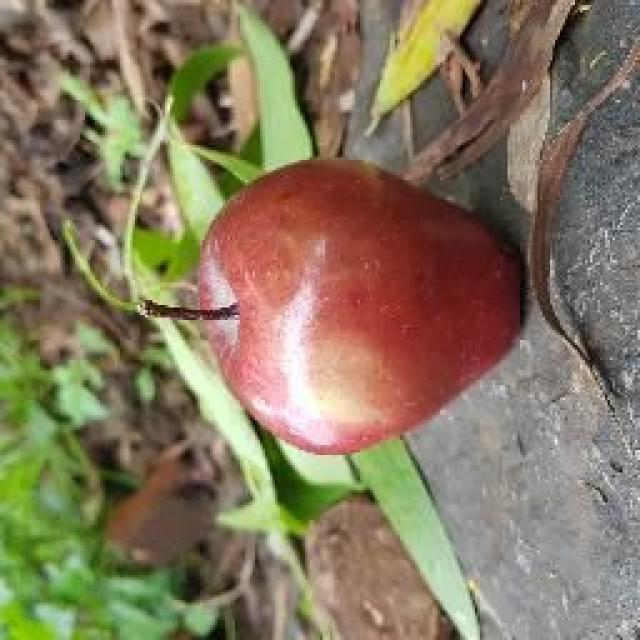Good_Apple: (198, 158, 528, 460)
